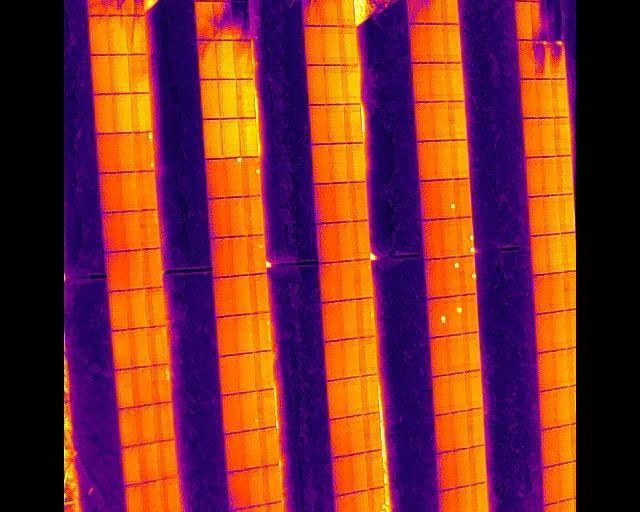Cell: (239, 391, 259, 430), (358, 297, 377, 338), (246, 234, 266, 272), (224, 156, 243, 196), (548, 39, 567, 78), (428, 297, 446, 337), (242, 156, 260, 195), (445, 294, 462, 335), (439, 178, 456, 217), (459, 255, 475, 296), (532, 39, 548, 77), (445, 257, 460, 297)
Cell-Multi: (133, 132, 155, 171), (252, 311, 271, 350), (151, 364, 170, 402), (458, 216, 474, 255), (371, 485, 385, 512)
No-Anomaly: (125, 14, 148, 53), (90, 53, 111, 93), (100, 171, 121, 211), (106, 250, 127, 290), (142, 246, 162, 287), (218, 354, 239, 393), (102, 210, 122, 250), (108, 290, 128, 330), (234, 313, 254, 353), (145, 287, 165, 327), (334, 454, 353, 496), (227, 471, 248, 509), (129, 327, 150, 365), (88, 14, 108, 53), (109, 53, 129, 92), (244, 195, 264, 234), (207, 198, 227, 237), (209, 236, 229, 275), (149, 325, 169, 364), (132, 366, 152, 405), (131, 92, 151, 131), (328, 377, 346, 420), (347, 141, 366, 181), (339, 25, 358, 65), (326, 339, 345, 379), (203, 117, 222, 157), (228, 234, 247, 274), (220, 117, 240, 155), (205, 158, 224, 198), (140, 208, 159, 248), (136, 405, 156, 443), (137, 171, 157, 209), (97, 132, 116, 171), (413, 62, 432, 101), (353, 259, 372, 298), (127, 288, 146, 327), (259, 426, 278, 465), (254, 350, 273, 389), (250, 273, 269, 312), (200, 79, 219, 118), (231, 274, 250, 313), (129, 53, 148, 92), (321, 260, 339, 301), (111, 328, 129, 369), (426, 257, 444, 298), (358, 337, 377, 375), (118, 407, 137, 445), (217, 316, 236, 354), (156, 402, 175, 440), (159, 439, 178, 477), (140, 443, 159, 481), (331, 417, 349, 457), (324, 300, 342, 340), (321, 24, 339, 64), (311, 103, 329, 143), (417, 140, 435, 180), (116, 131, 134, 171), (217, 39, 235, 79), (214, 276, 232, 316), (441, 21, 458, 63), (262, 465, 281, 502), (96, 92, 114, 131), (108, 14, 126, 53), (114, 92, 132, 131), (236, 78, 254, 117), (243, 428, 261, 467), (227, 196, 245, 235), (222, 394, 240, 433), (220, 78, 238, 117), (318, 181, 335, 222), (424, 219, 441, 260), (550, 78, 568, 116), (303, 24, 320, 64), (307, 63, 324, 103), (331, 142, 348, 182), (361, 374, 378, 414), (421, 179, 438, 219), (123, 445, 140, 485), (128, 248, 145, 288), (120, 171, 137, 211), (432, 373, 449, 413), (436, 139, 453, 179), (462, 332, 479, 372), (556, 154, 573, 194), (431, 335, 447, 377), (246, 467, 264, 504), (236, 353, 254, 390), (225, 432, 243, 469), (161, 477, 180, 512), (341, 64, 358, 103), (320, 222, 337, 261), (313, 143, 330, 182), (122, 210, 139, 249), (448, 100, 465, 139), (453, 448, 470, 487), (235, 39, 252, 78), (141, 479, 161, 512), (350, 180, 366, 221), (346, 376, 362, 417), (349, 414, 365, 455), (337, 219, 353, 260), (452, 138, 468, 179), (447, 333, 463, 374), (437, 450, 453, 491), (538, 117, 555, 155), (445, 63, 462, 101), (241, 118, 258, 156), (525, 157, 542, 195), (468, 408, 484, 448), (353, 220, 369, 260), (416, 100, 432, 140), (116, 367, 132, 407), (450, 372, 466, 412), (435, 412, 451, 452), (431, 61, 447, 101), (517, 39, 533, 78), (546, 233, 562, 272), (325, 64, 341, 103), (543, 195, 559, 234), (452, 411, 468, 450), (441, 219, 457, 258), (259, 388, 275, 427), (535, 77, 551, 116), (465, 370, 481, 409), (462, 294, 478, 333), (353, 451, 368, 492), (339, 259, 354, 300), (343, 299, 358, 340), (335, 181, 350, 222), (469, 447, 485, 485), (330, 103, 346, 141), (365, 413, 381, 451), (523, 117, 539, 155), (426, 24, 442, 62), (533, 274, 549, 312), (521, 77, 536, 117), (550, 309, 565, 349), (535, 312, 550, 352), (456, 177, 471, 217), (516, 0, 531, 39), (346, 103, 361, 142), (542, 155, 557, 194), (410, 23, 425, 62), (366, 450, 381, 489), (541, 427, 556, 466), (528, 195, 543, 234), (433, 101, 448, 140), (560, 194, 575, 232), (531, 235, 546, 273), (558, 463, 573, 501), (562, 232, 576, 272), (345, 337, 359, 377), (552, 349, 566, 388), (549, 272, 563, 311), (538, 350, 552, 389), (556, 424, 570, 463), (543, 466, 557, 504), (540, 389, 554, 427), (555, 116, 569, 154), (471, 481, 487, 512), (563, 270, 576, 308), (554, 387, 567, 425), (125, 484, 142, 512), (334, 0, 353, 24), (456, 485, 472, 512), (337, 490, 356, 512), (440, 489, 457, 512), (356, 489, 371, 512), (441, 0, 456, 22), (558, 500, 575, 512), (265, 502, 283, 512), (543, 503, 558, 512)
Shadowing: (193, 0, 214, 39), (198, 39, 216, 79), (232, 0, 248, 40), (215, 0, 231, 40), (547, 0, 563, 39), (530, 0, 546, 38), (316, 0, 338, 25), (301, 0, 320, 24), (424, 0, 441, 23), (407, 0, 423, 23), (86, 0, 107, 14), (125, 0, 144, 15), (107, 0, 125, 15)
